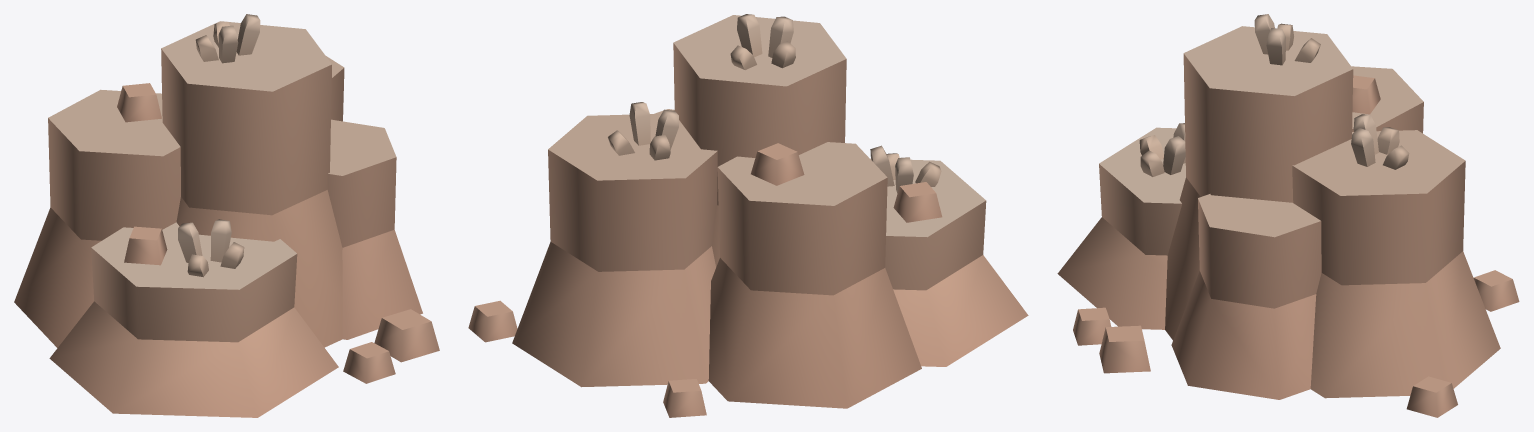
Rendered from rocks-sand-c.glb.
3 renders of one model, left to right at view 1: azimuth 30°, elevation 25°; view 2: azimuth 150°, elevation 25°; view 3: azimuth 270°, elevation 25°, orthographic. The views are drawn at different scales.
Parts seen in each view (by area): view 1: rocks-sand-c; view 2: rocks-sand-c; view 3: rocks-sand-c.
Part boxes in pixels (left/top/right/bottom): rocks-sand-c: left=14, top=14, right=439, bottom=417; rocks-sand-c: left=468, top=14, right=1028, bottom=417; rocks-sand-c: left=1057, top=14, right=1519, bottom=417.
Size of the model in its own units: 3.71 by 2.61 by 3.72.
